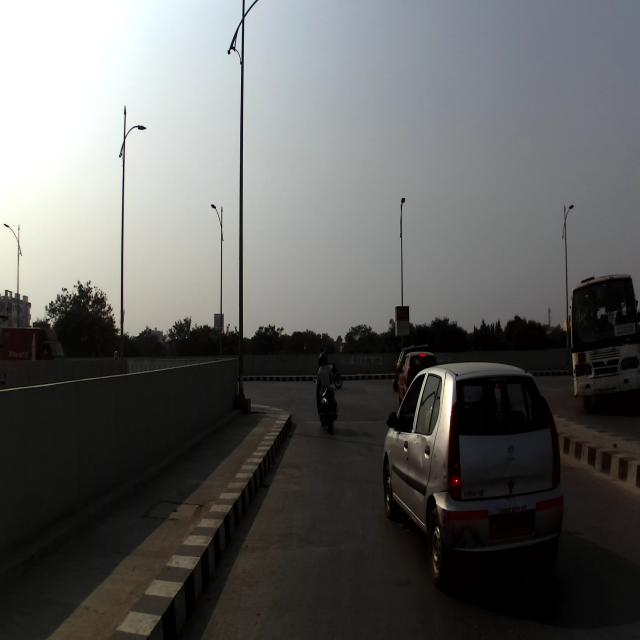car ahead at: (381, 366, 567, 573)
